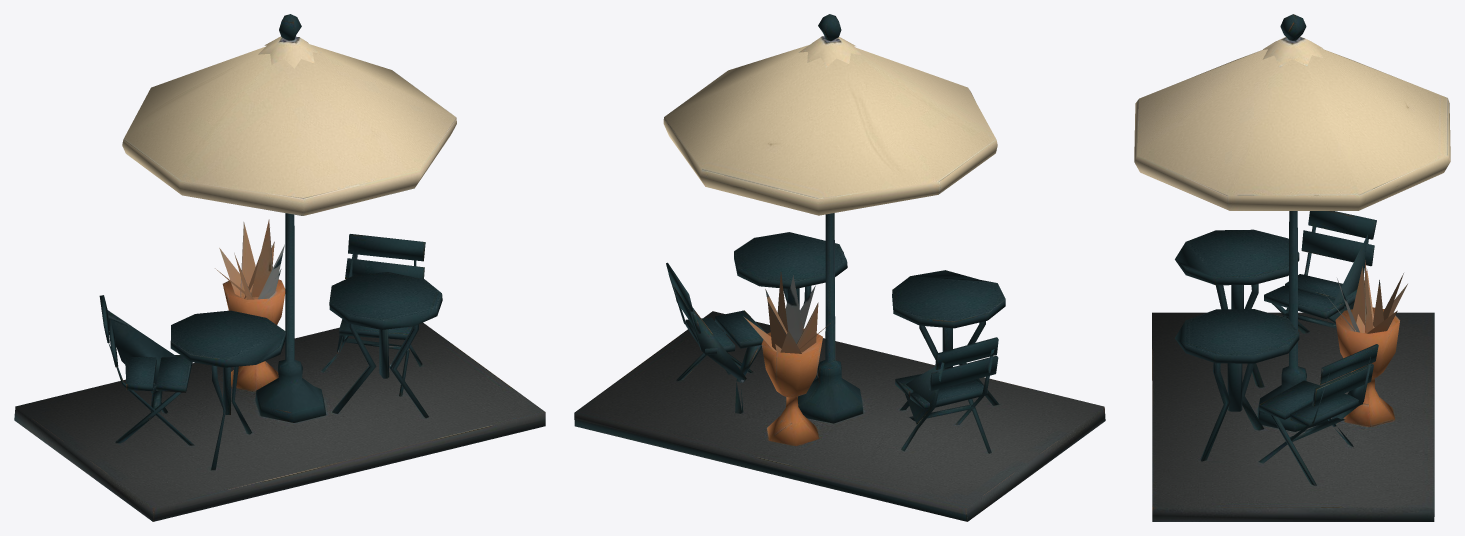
Rendered from cafe_tables.glb.
3 renders of one model, left to right at view 1: azimuth 30°, elevation 25°; view 2: azimuth 150°, elevation 25°; view 3: azimuth 270°, elevation 25°, orthographic. The views are drawn at different scales.
Bounding box in the file's own units: 3.5 × 3.46 × 2.39.
Materials: 1 (1 with a texture image).
